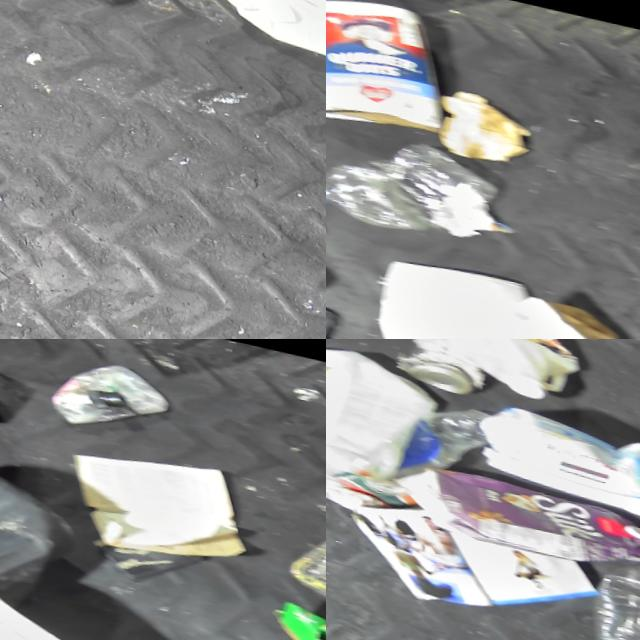can: (389, 339, 490, 394)
milk_jug: (326, 339, 445, 512), (0, 556, 221, 640), (367, 244, 527, 339), (403, 339, 592, 403), (216, 0, 326, 65)
non_white_jug: (384, 449, 640, 575)
plastic_bottle: (326, 111, 505, 245), (346, 377, 495, 503), (45, 344, 178, 439), (580, 524, 640, 640)
